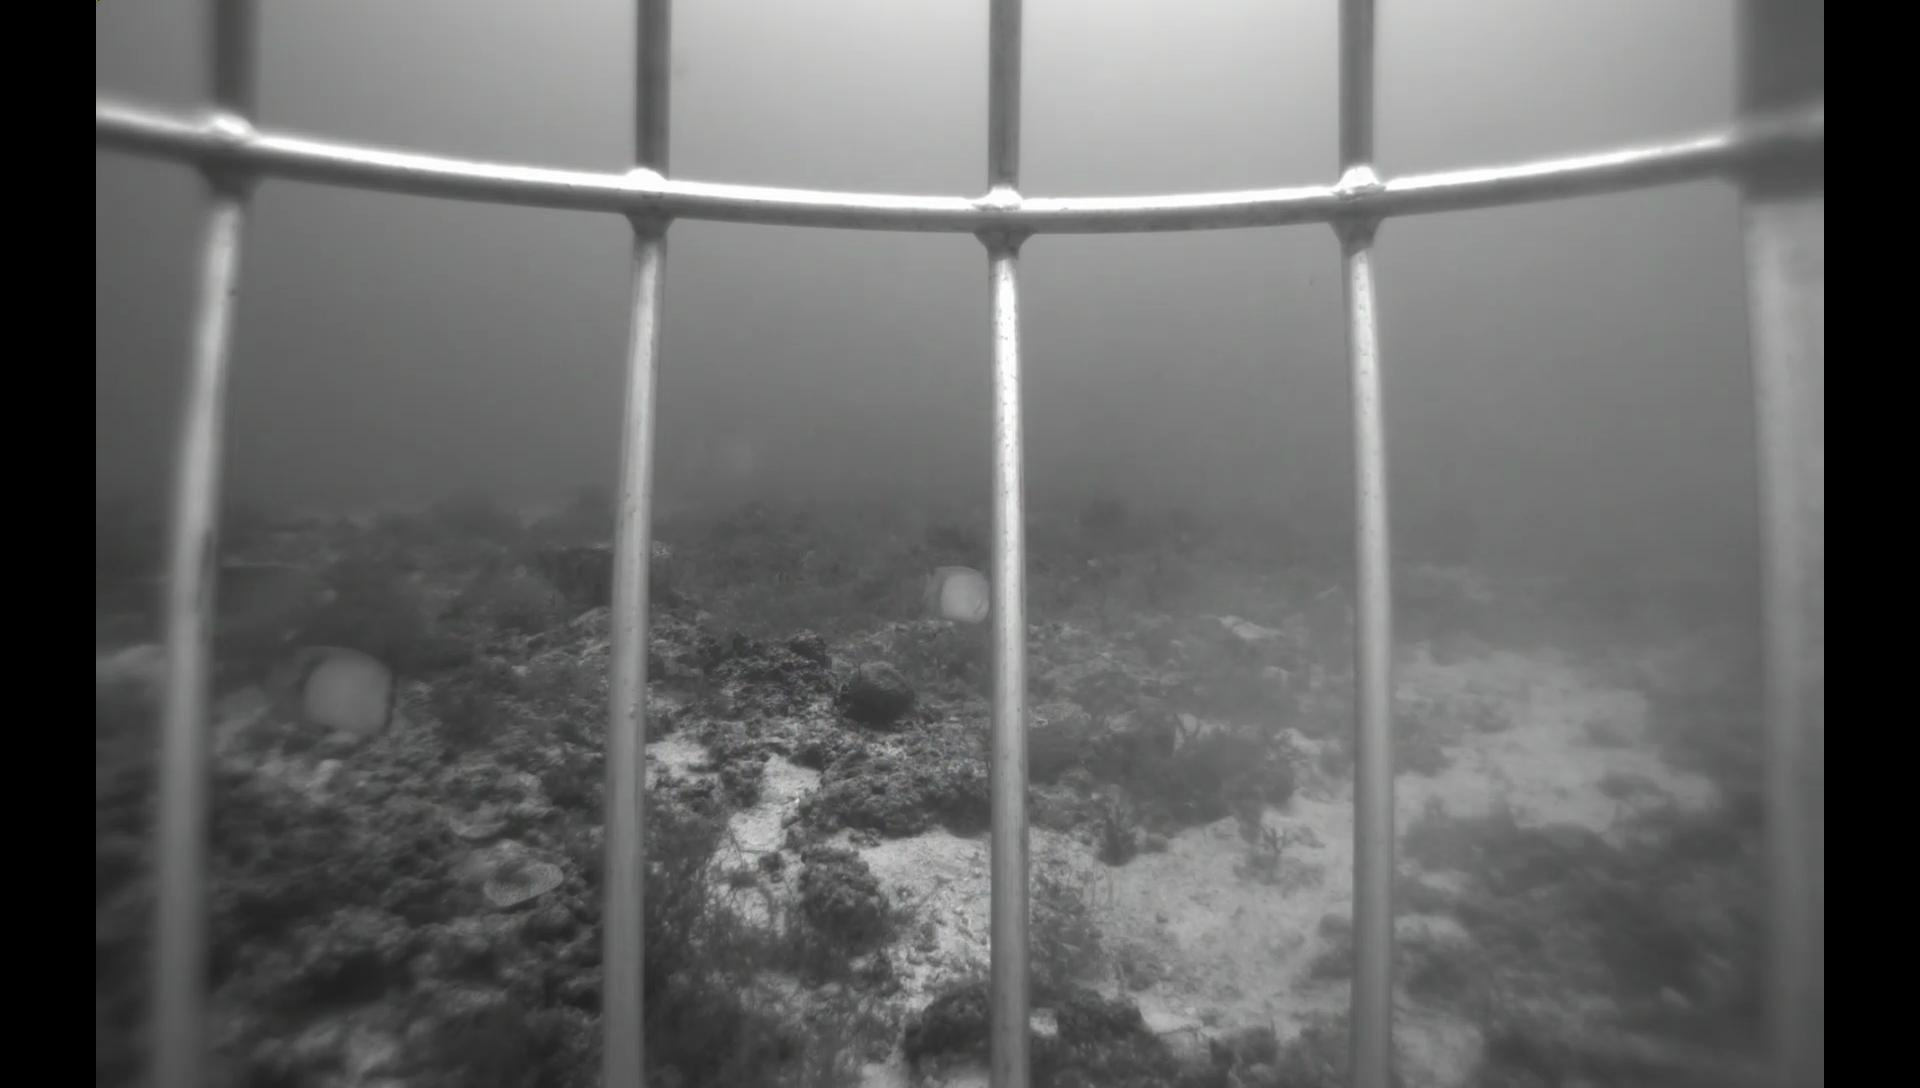CHAETODONOCELLATUS-170260307: (272, 637, 426, 746), (905, 553, 994, 630)
HOLACANTHUSBERMUDENSIS-170290102: (211, 553, 349, 658)
MYCTEROPERCAPHENAX-170022105: (943, 493, 992, 551)
